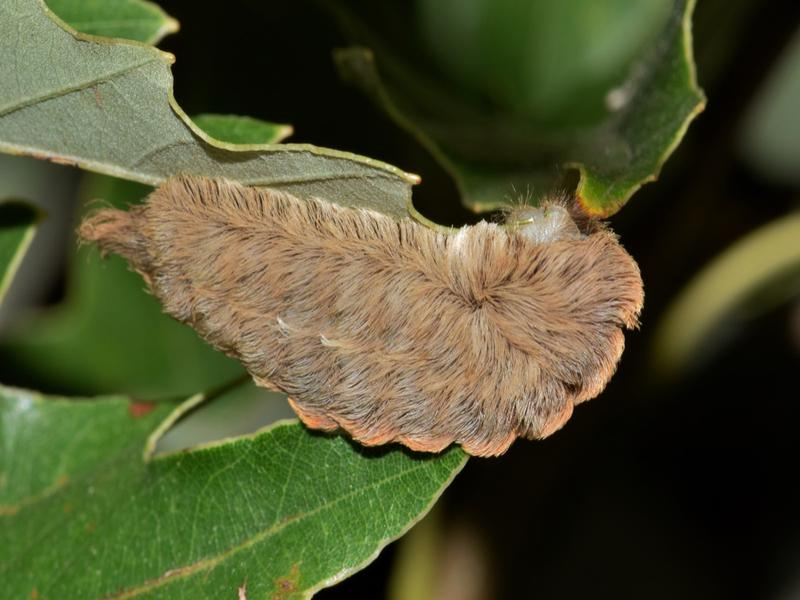Rice_horned_caterpillar: (72, 164, 675, 494)
